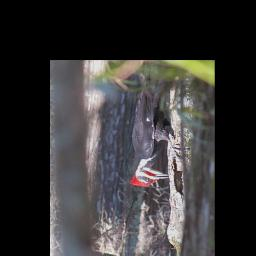Woodpecker: (128, 67, 190, 187)
